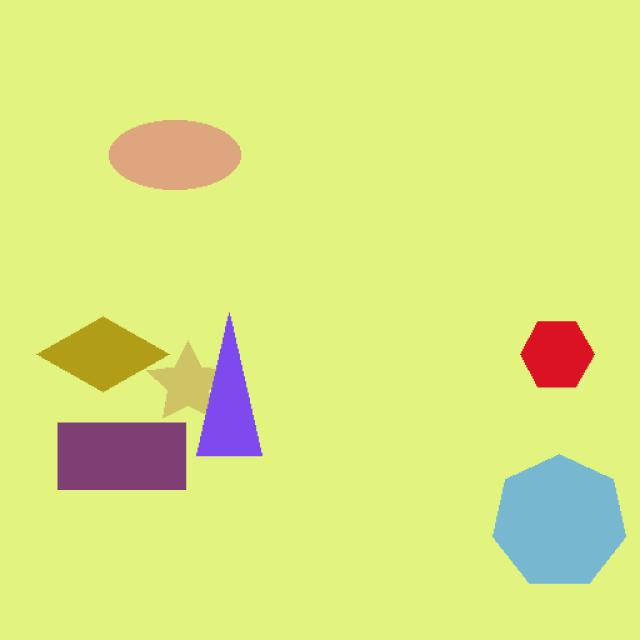Circle: (88, 113, 266, 210)
Heptagon: (484, 450, 640, 607)
Hexagon: (488, 307, 608, 400)
Kite: (26, 292, 171, 393)
Rectangle: (48, 411, 234, 506)
Star: (136, 338, 233, 429)
Triangle: (192, 307, 275, 469)
